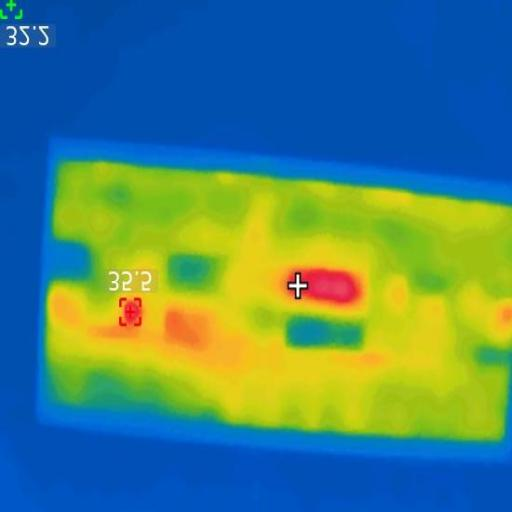hotspot: (285, 272, 356, 298), (119, 303, 144, 324)
